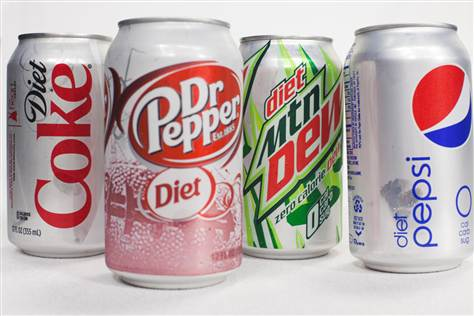pepsi: (406, 62, 472, 148)
